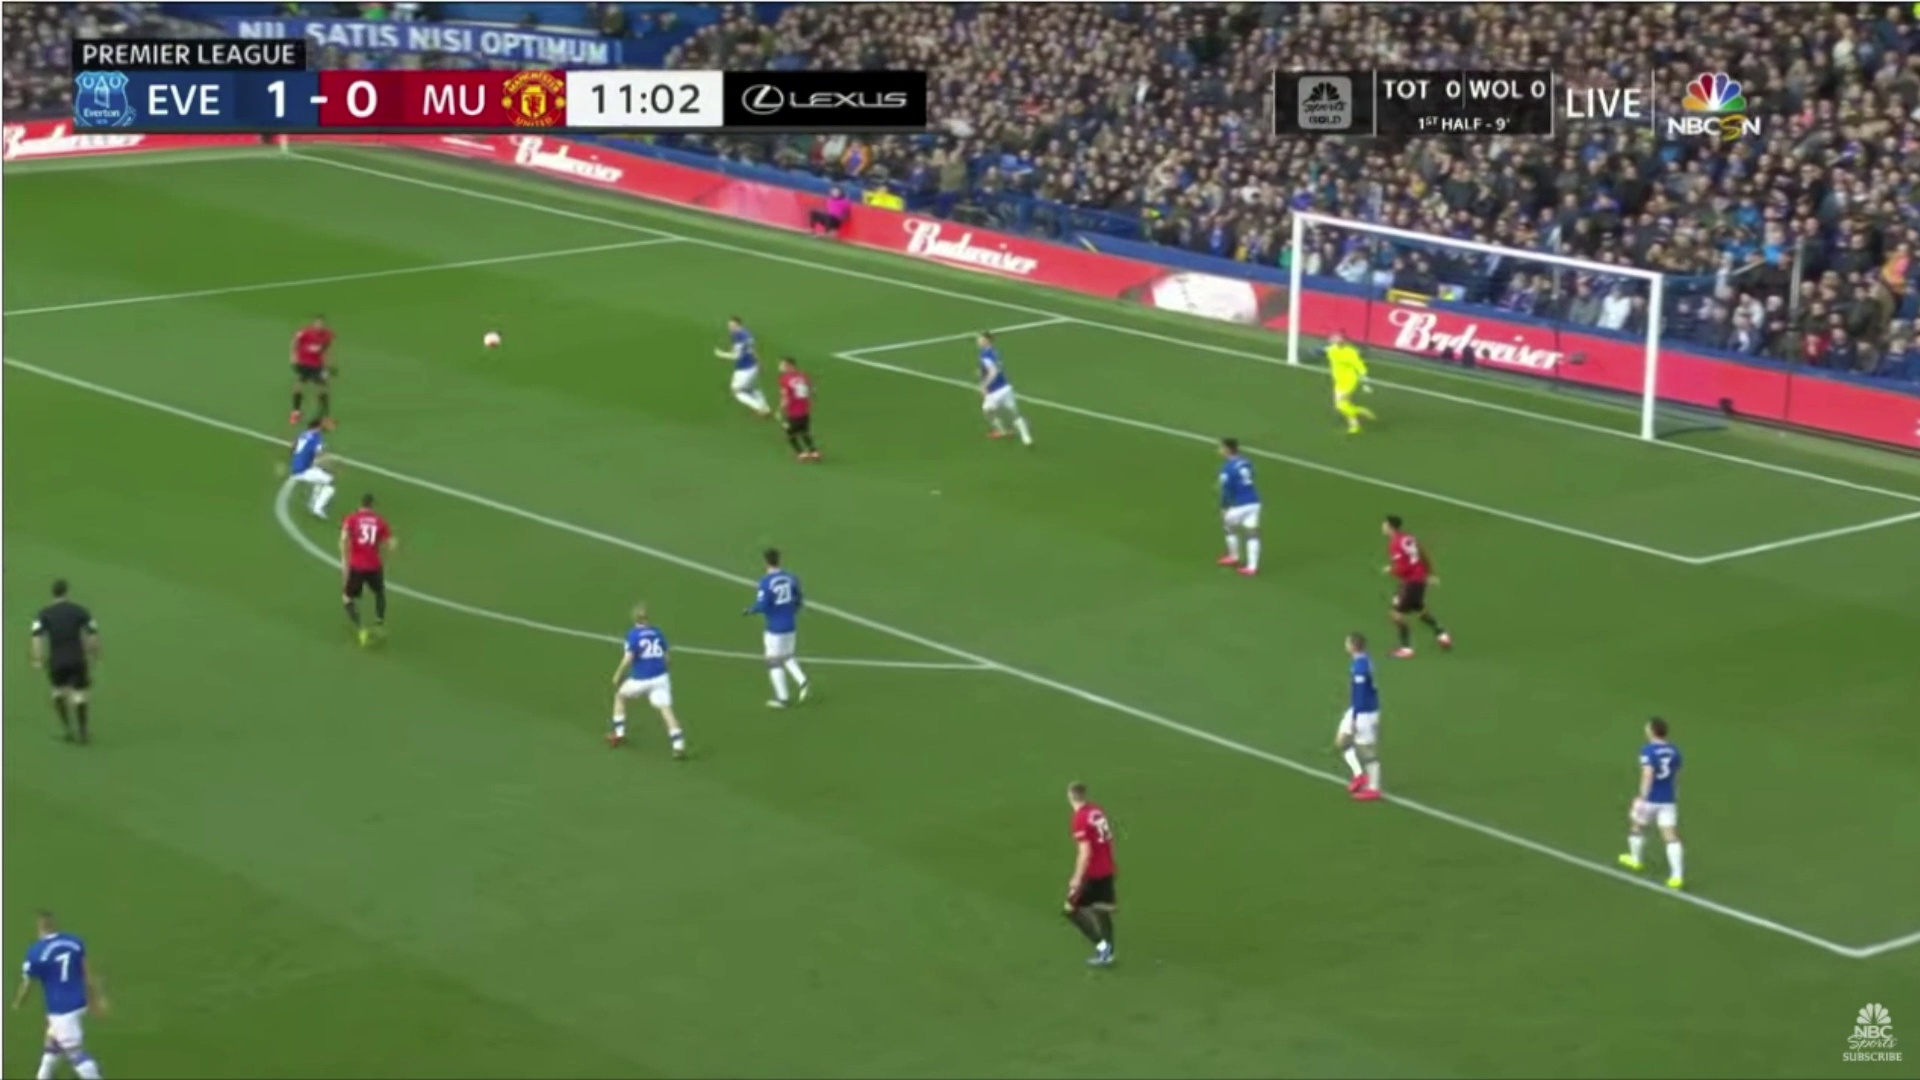ball: (474, 317, 510, 356)
player: (4, 888, 140, 1080), (1037, 763, 1145, 969), (1606, 698, 1704, 908), (1306, 621, 1406, 813), (1356, 502, 1477, 656), (597, 592, 704, 765), (729, 538, 831, 715), (1191, 425, 1279, 579), (333, 490, 406, 652), (956, 315, 1037, 454), (702, 308, 774, 440), (275, 300, 354, 423), (1318, 319, 1395, 437), (766, 350, 839, 467), (272, 415, 345, 529)
